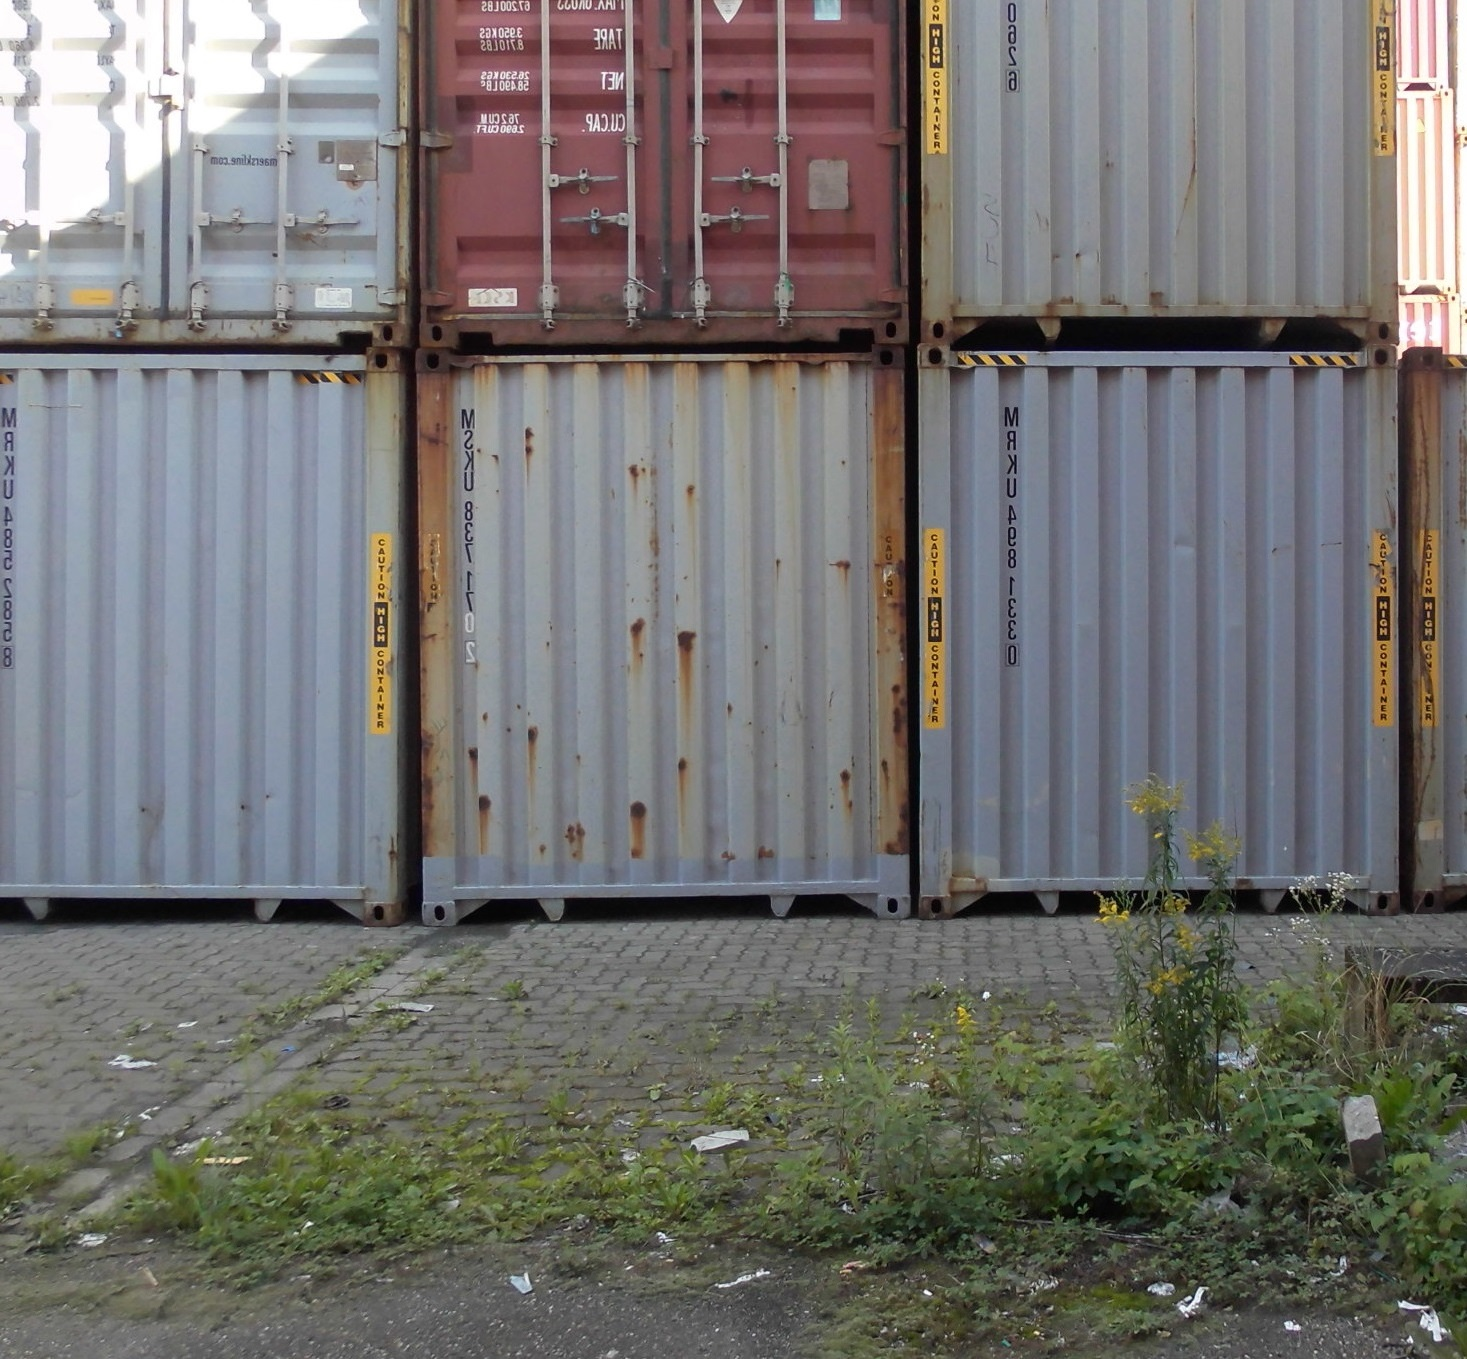container_door: (411, 1, 910, 345), (1, 3, 405, 346)
container_no_door: (414, 352, 903, 922), (912, 343, 1401, 913), (1, 353, 411, 928), (912, 1, 1403, 346)
